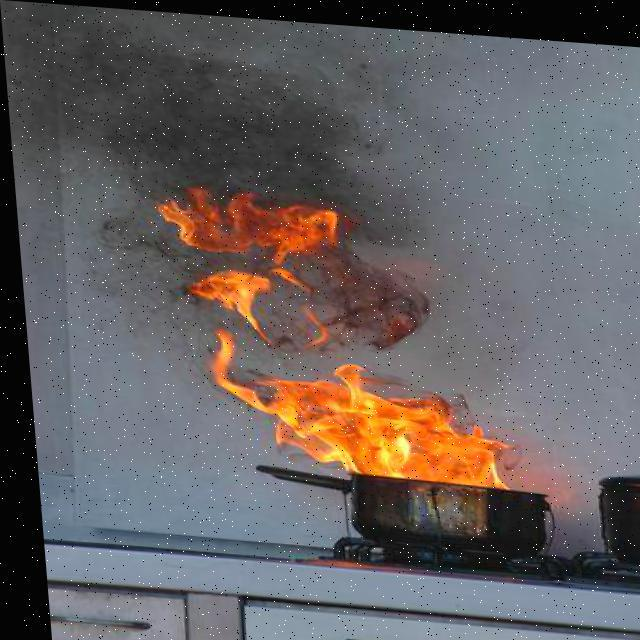Fire: (161, 182, 524, 495)
